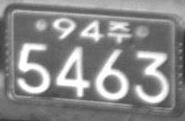3: (134, 49, 169, 105)
4: (55, 45, 90, 97), (79, 19, 105, 42)
5: (16, 42, 52, 94)
6: (94, 48, 130, 101)
9: (52, 16, 76, 40)
주: (107, 19, 132, 44)
